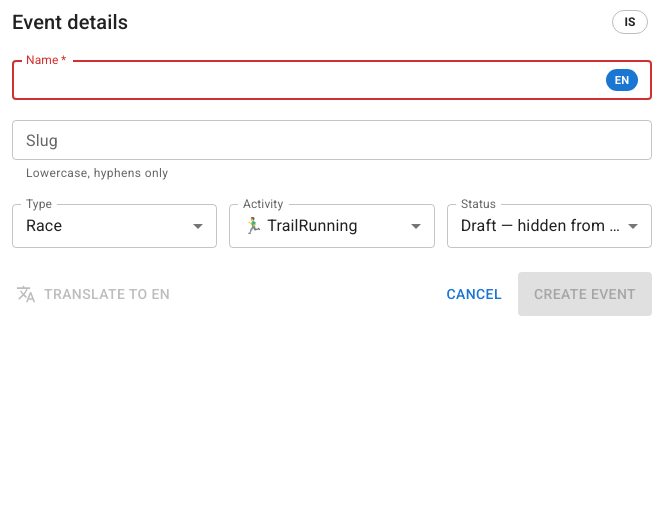
EventDetailsStep — Type/Activity/Status Selects are reachable via getByLabelText (#977) › locates Type, Activity, and Status by label and changes Type
Expected: the dropdown named "Activity" reads "🏃‍♂️ TrailRunning", [243, 216, 358, 235]
Expected: the dropdown named "Status" reads "Draft — hidden from all", [461, 216, 626, 235]
Press the mouse on the dropdown named "Type": (44, 226) [26, 216, 62, 235]
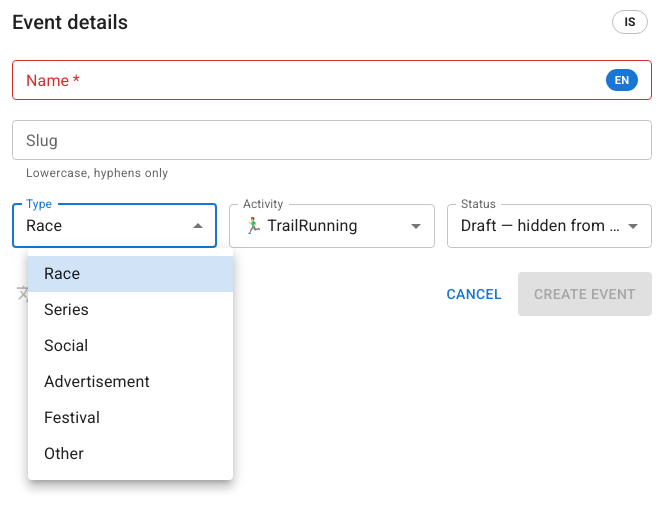
Click the option "Series": (66, 310) [44, 300, 89, 319]
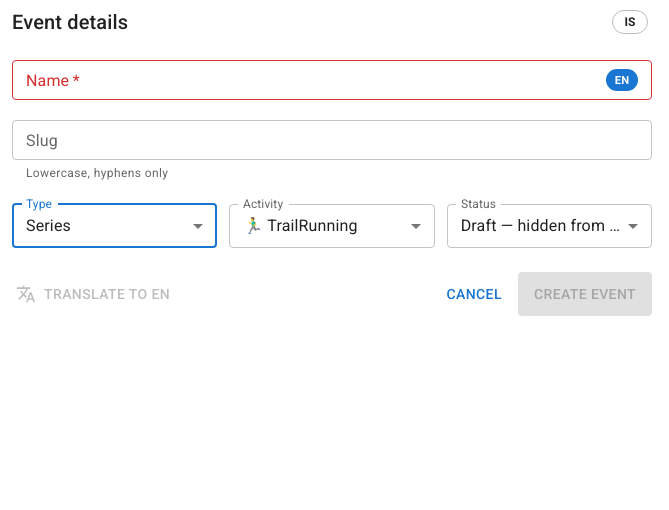
Expected: the dropdown named "Type" reads "Series", [26, 216, 71, 235]
